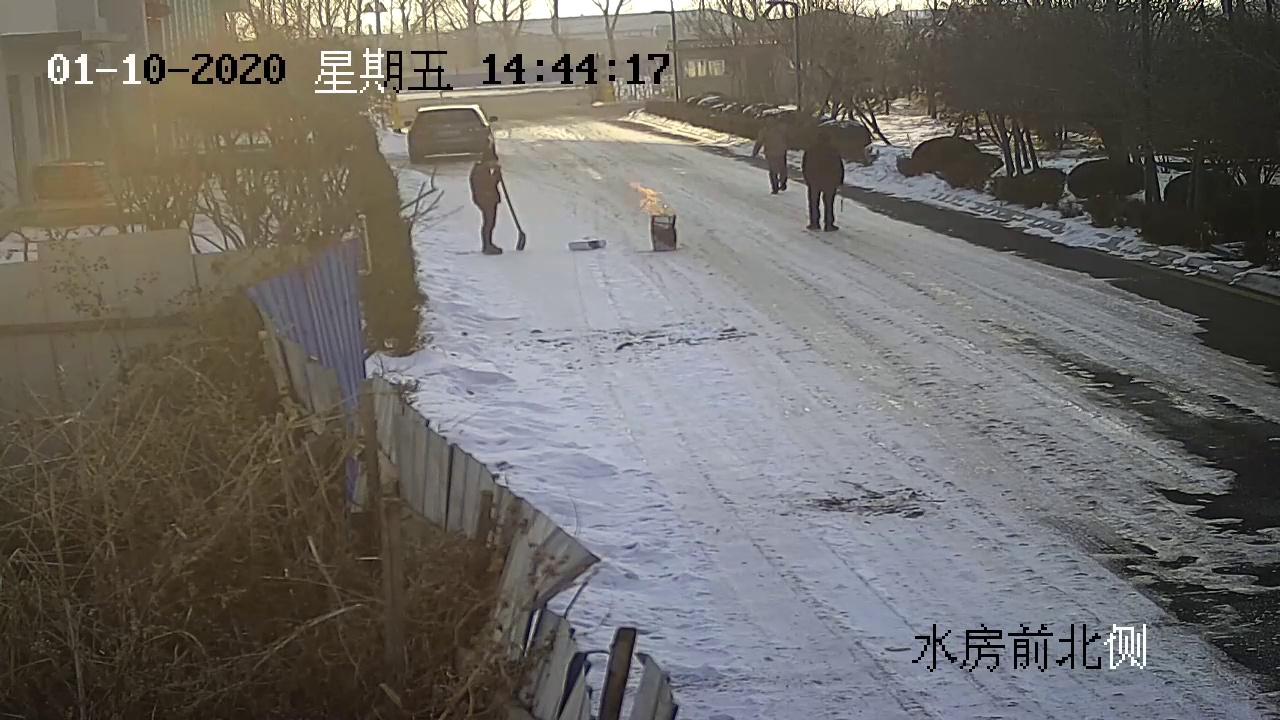fire: (634, 185, 668, 213)
